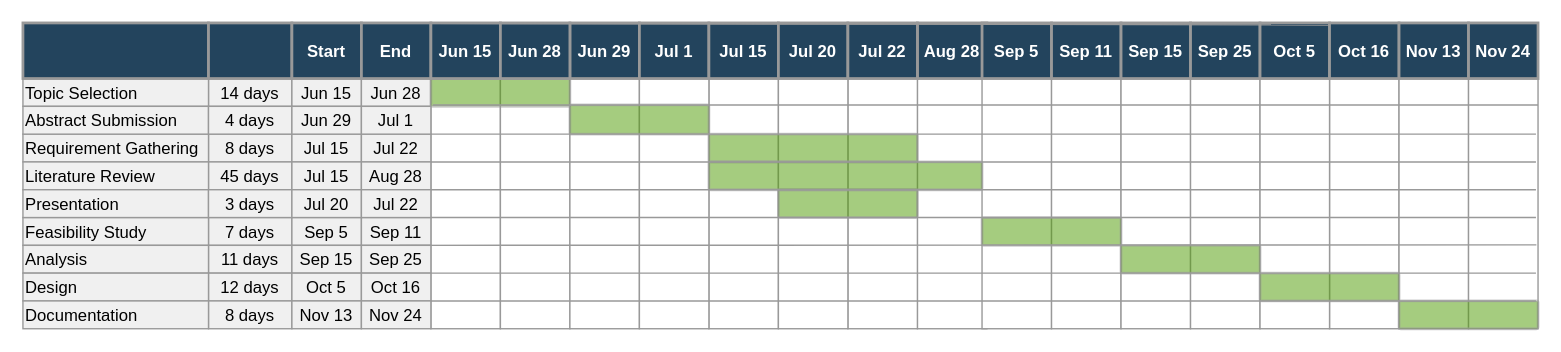
This 1561x352 diagram has some shape labels left out. The box of each missing label's shape, as (x1, y1, x2, y2) in pixels:
Duration: (206, 21, 293, 79)
Task: (21, 21, 209, 79)
